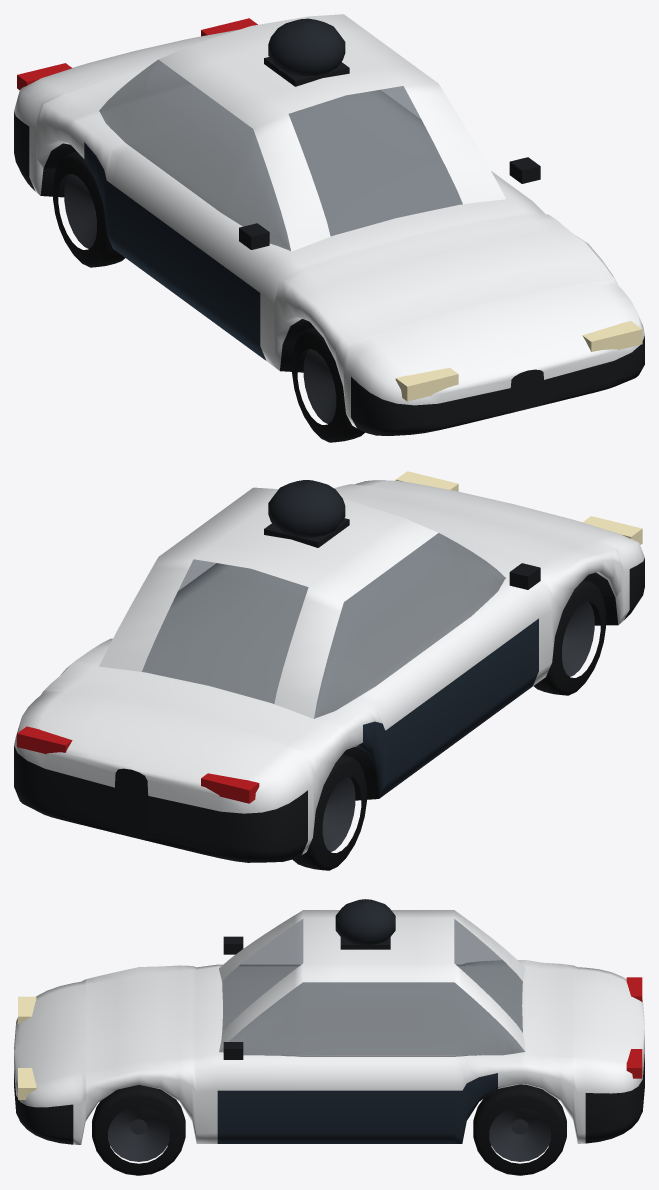
The model's file is desktop.glb.
3 renders of one model, top to bottom at view 1: azimuth 30°, elevation 25°; view 2: azimuth 150°, elevation 25°; view 3: azimuth 270°, elevation 25°, orthographic. The views are drawn at different scales.
Parts seen in each view (by area): view 1: body, glass, dome, tyre_rr, tyre_fr, rim_fr, rim_rr, light_head_r, light_head_l; view 2: body, glass, dome, tyre_rr, tyre_fr, rim_rr, rim_fr, light_brake_r, light_brake_l, light_head_r, light_head_l; view 3: body, glass, tyre_rl, tyre_fl, rim_fl, rim_rl, dome, light_head_l, light_brake_l, light_head_r.
Part boxes in pixels (left/top/right/bottom): body: left=14, top=14, right=644, bottom=435; glass: left=99, top=59, right=462, bottom=250; dome: left=268, top=18, right=345, bottom=76; tyre_rr: left=53, top=151, right=124, bottom=267; tyre_fr: left=292, top=327, right=364, bottom=442; rim_fr: left=303, top=349, right=336, bottom=423; rim_rr: left=64, top=174, right=96, bottom=248; light_head_r: left=395, top=367, right=458, bottom=401; light_head_l: left=582, top=321, right=642, bottom=351; body: left=14, top=480, right=644, bottom=862; glass: left=142, top=533, right=505, bottom=718; dome: left=268, top=480, right=345, bottom=537; tyre_rr: left=292, top=754, right=366, bottom=870; tyre_fr: left=533, top=579, right=605, bottom=695; rim_rr: left=322, top=777, right=355, bottom=851; rim_fr: left=562, top=602, right=594, bottom=676; light_brake_r: left=201, top=773, right=259, bottom=803; light_brake_l: left=17, top=726, right=72, bottom=754; light_head_r: left=582, top=516, right=642, bottom=544; light_head_l: left=395, top=471, right=458, bottom=491; body: left=14, top=910, right=644, bottom=1144; glass: left=219, top=919, right=524, bottom=1055; tyre_rl: left=473, top=1084, right=566, bottom=1175; tyre_fl: left=92, top=1085, right=185, bottom=1175; rim_fl: left=108, top=1107, right=169, bottom=1161; rim_rl: left=489, top=1107, right=550, bottom=1161; dome: left=335, top=899, right=395, bottom=945; light_head_l: left=18, top=1068, right=36, bottom=1099; light_brake_l: left=626, top=1049, right=642, bottom=1078; light_head_r: left=18, top=996, right=36, bottom=1024.
Size of what is drawn, in the model's own units: 2.03 by 1.88 by 4.8.
